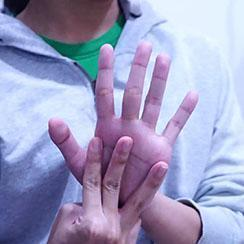M: (26, 31, 216, 244)
